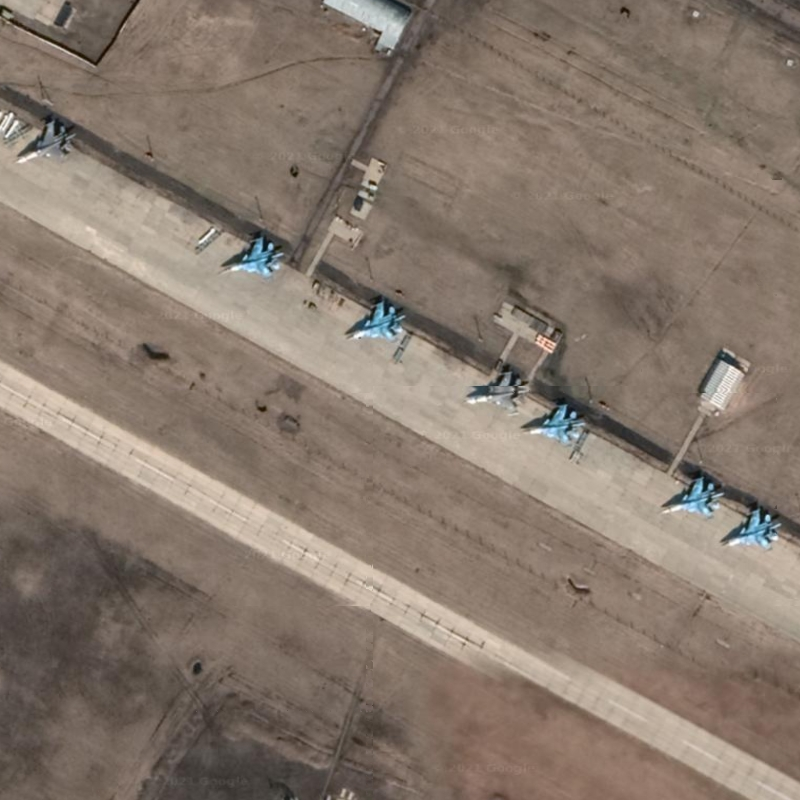A19: (217, 234, 287, 284), (520, 402, 589, 451), (658, 474, 727, 523), (462, 369, 531, 417), (719, 505, 783, 554), (14, 118, 78, 165), (344, 298, 408, 345)
